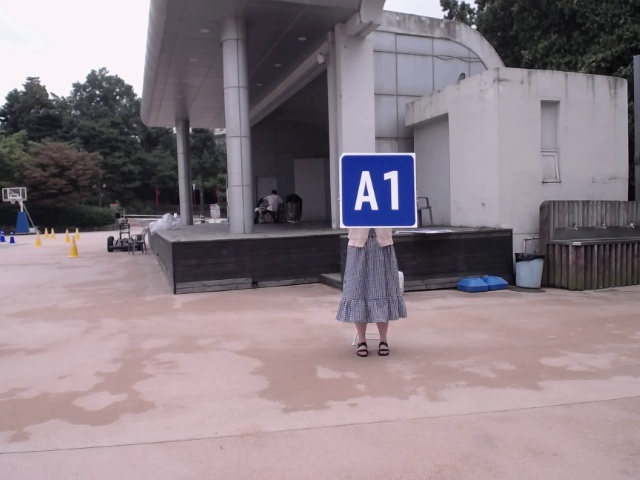delivery_a1: (340, 154, 417, 228)
